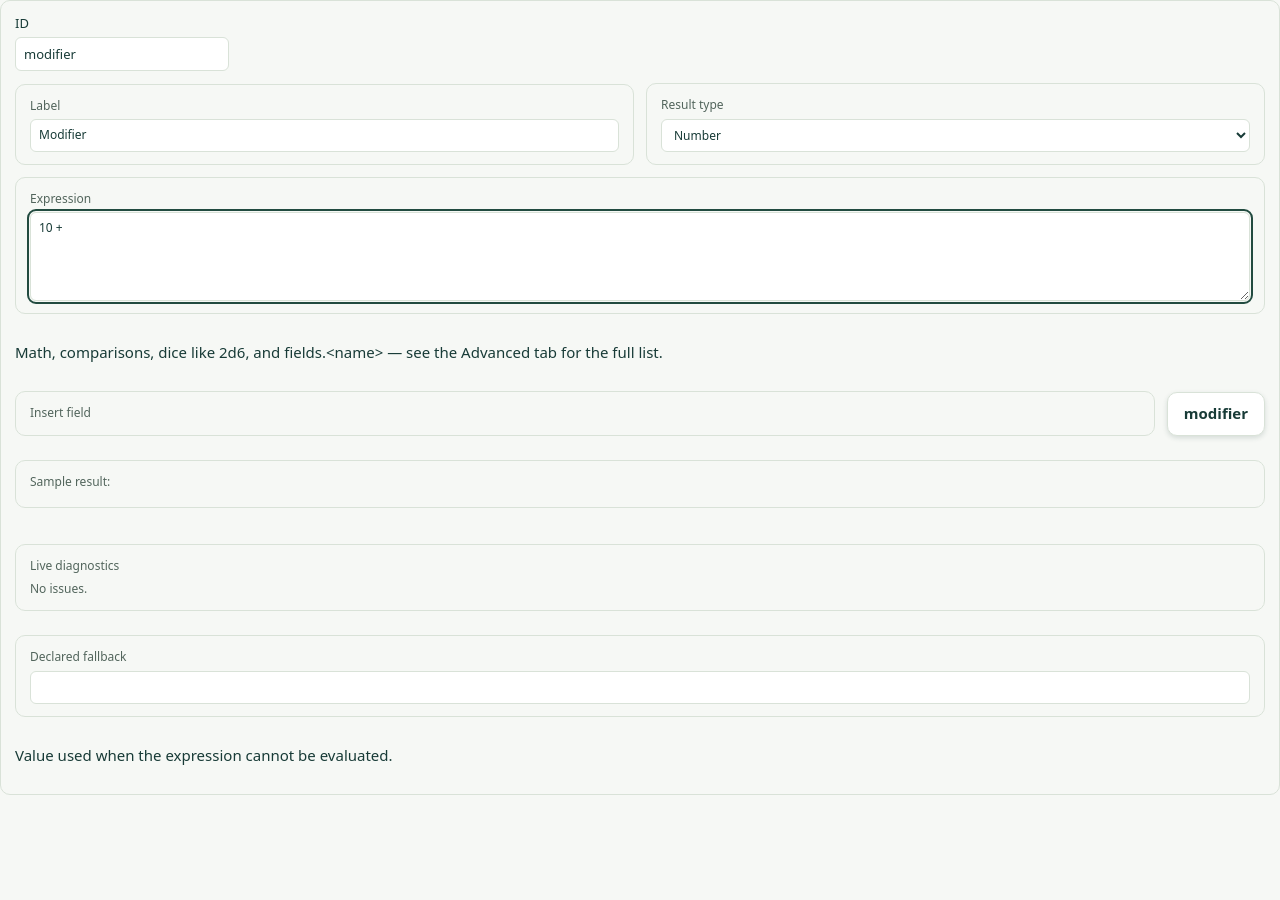
ComputedFieldEditor › inserts a sibling field reference at the cursor
Click the button with test id "computed-field-insert-modifier-modifier".
click(1216, 414)  # box [1167,392,1265,436]
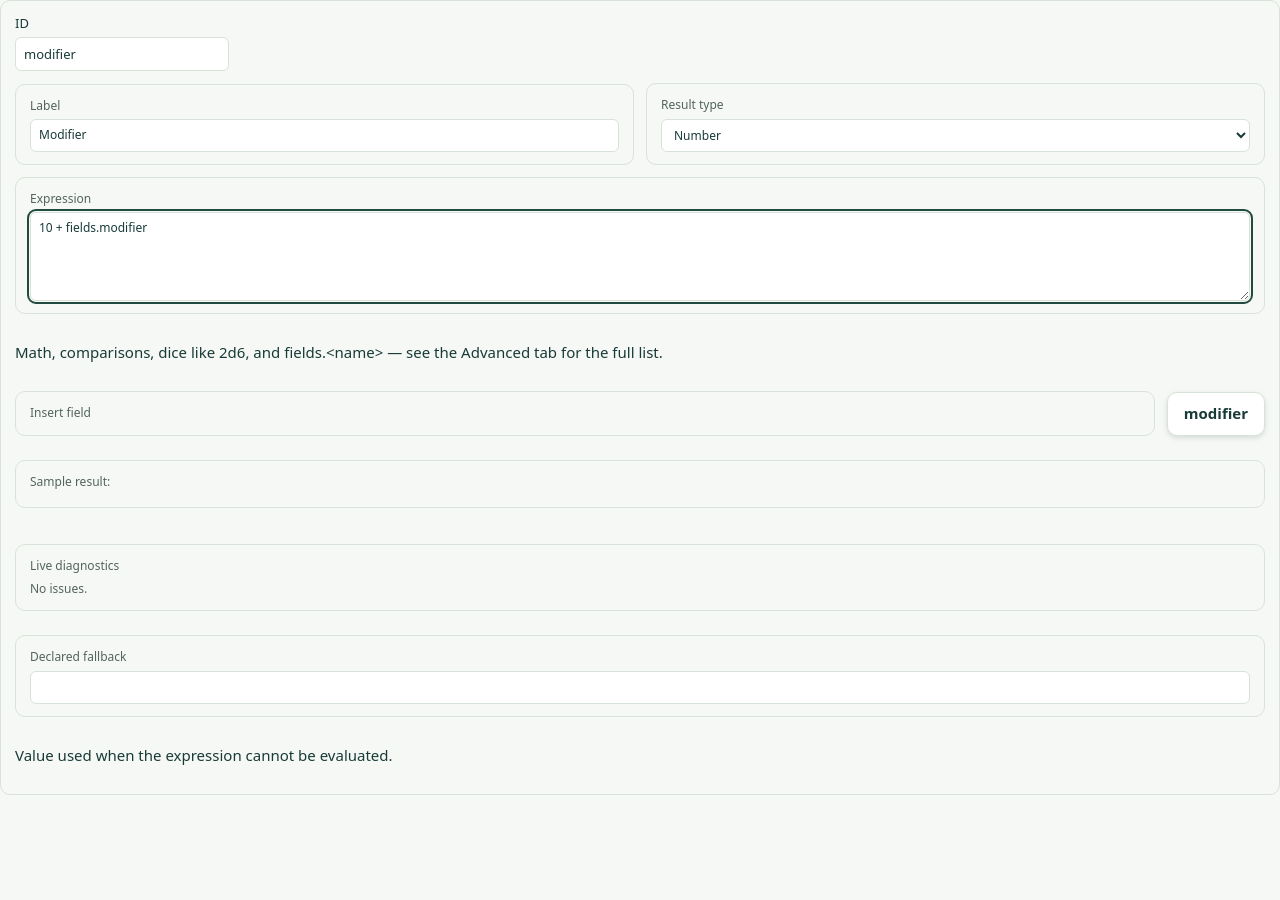
Check: the text box with test id "computed-field-source-modifier" holds "10 + fields.modifier", box [30,212,1250,301]
